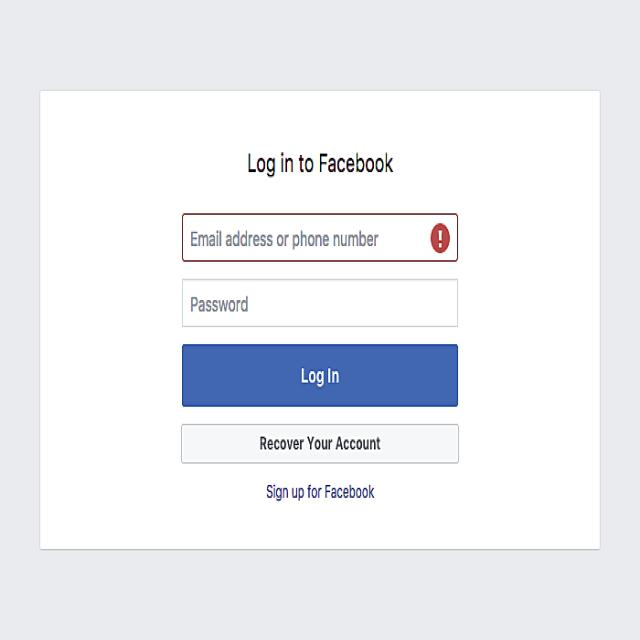Button: (178, 342, 468, 411), (177, 419, 467, 477)
Container: (32, 87, 606, 558)
Input-field: (178, 273, 466, 339), (174, 204, 465, 262)
Text: (238, 132, 400, 188), (264, 476, 381, 508)
